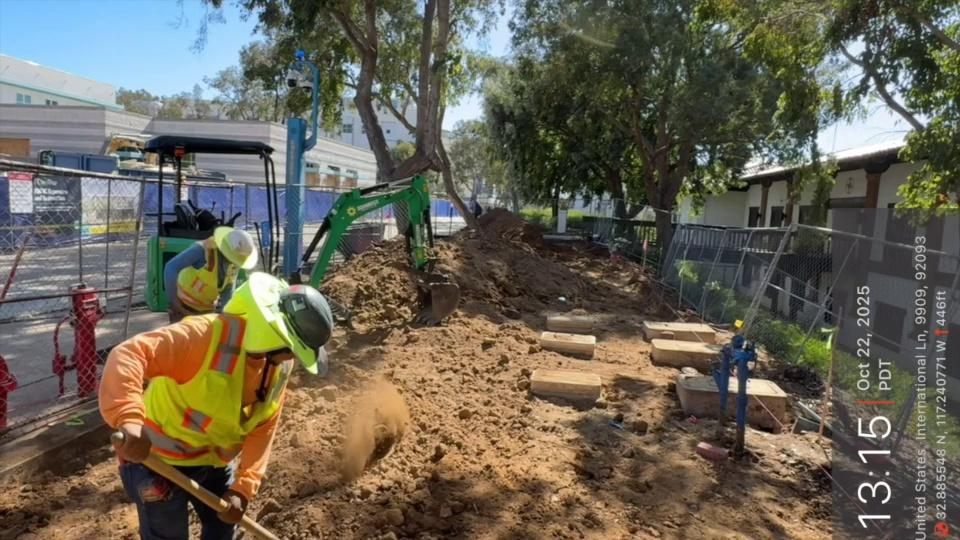Exacavator: (120, 122, 486, 328)
